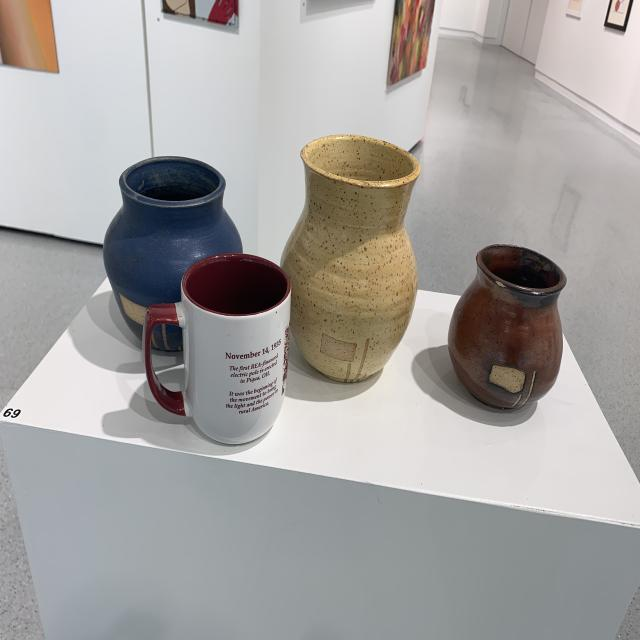Cup: (138, 248, 294, 450)
